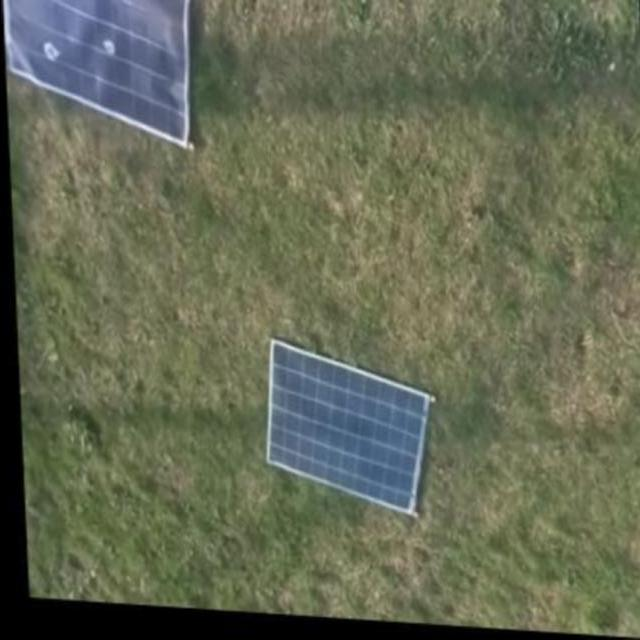soiled: (2, 1, 195, 150)
